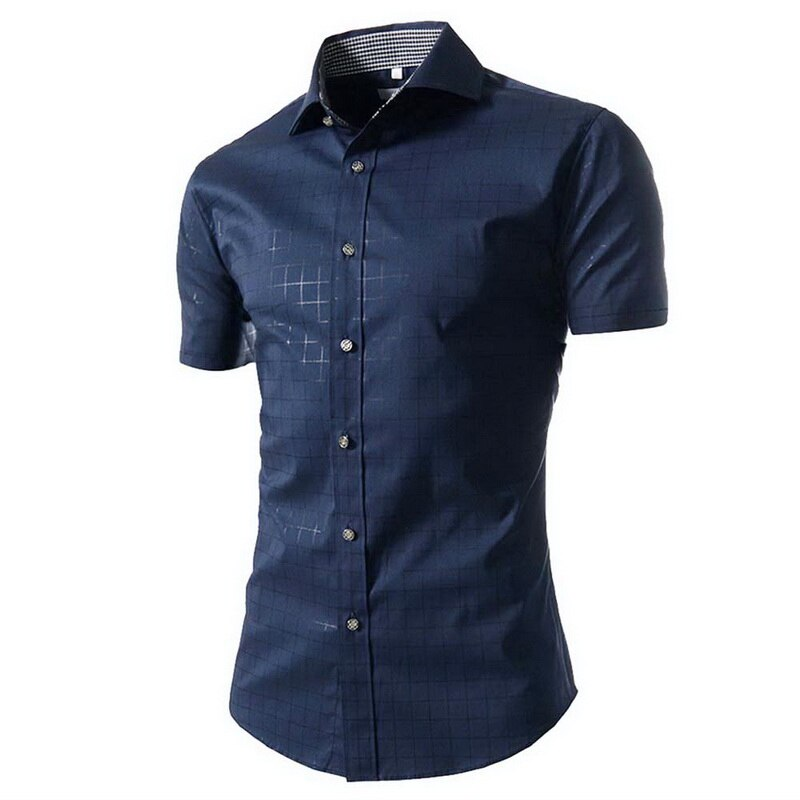shirts: (173, 18, 670, 778)
